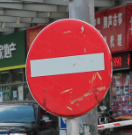no_entry: (25, 18, 113, 119)
